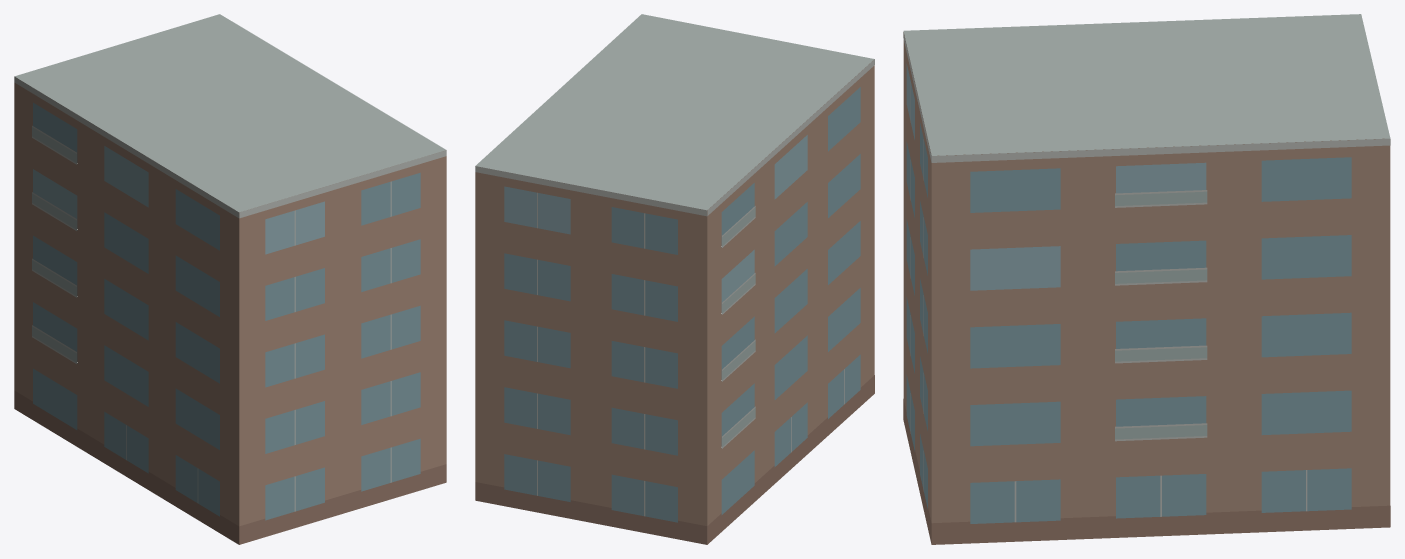
File: survey-upis-32654461.glb
3 views of the same model, side by side, from view 1: azimuth 30°, elevation 25°; view 2: azimuth 150°, elevation 25°; view 3: azimuth 270°, elevation 25° (orthographic). The views are drawn at different scales.
Parts seen in each view (by area): view 1: survey-upis-32654461.tmp; view 2: survey-upis-32654461.tmp; view 3: survey-upis-32654461.tmp.
Boxes of the visible parts, x1=… form: survey-upis-32654461.tmp: x1=14, y1=14, x2=446, y2=544; survey-upis-32654461.tmp: x1=475, y1=14, x2=874, y2=544; survey-upis-32654461.tmp: x1=903, y1=14, x2=1390, y2=544.
Size of the model in its own units: 10.58 by 13.5 by 15.33.
